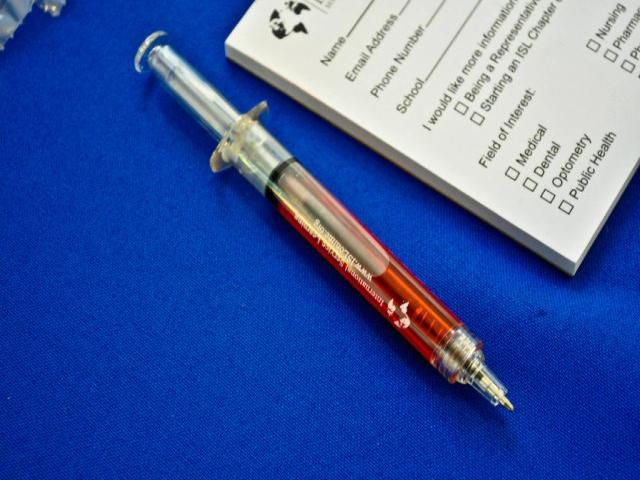PEN: (204, 109, 550, 459)
